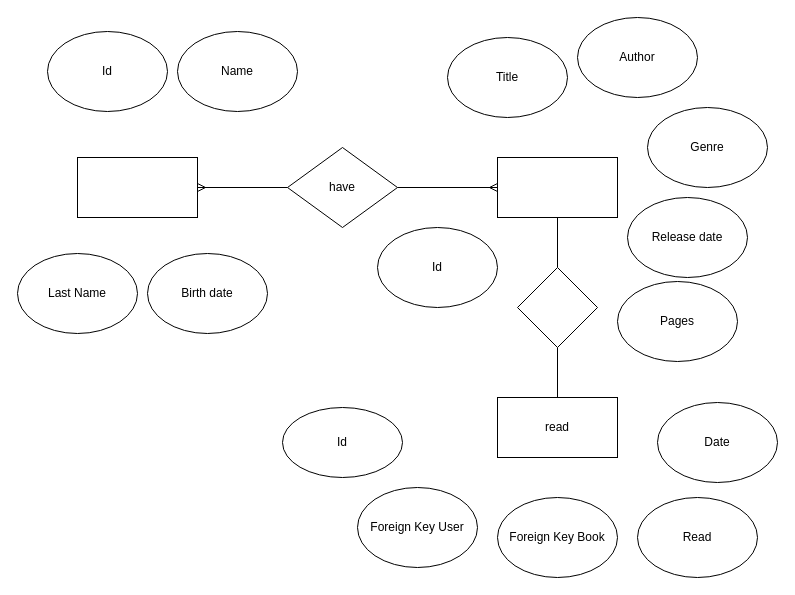
Some shapes in this 795 by 595 pixel diagram are drawn without their labels. Each missing label, with the centre of its shape:
Book: pixel 557 187
is: pixel 557 307
User: pixel 137 187
